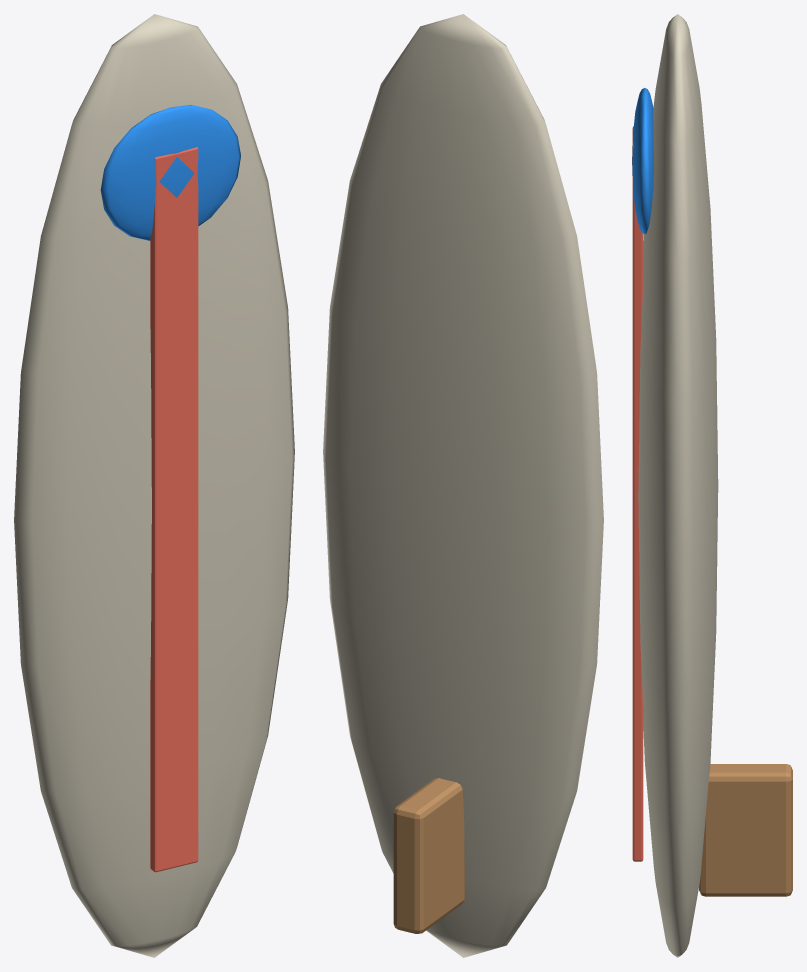
The model's file is surfboard.glb.
The picture shows the model from 3 angles, left to right: view 1: azimuth 30°, elevation 25°; view 2: azimuth 150°, elevation 25°; view 3: azimuth 270°, elevation 25°; orthographic projection.
Visible parts, largest first — view 1: Surfboard.001; view 2: Surfboard.001; view 3: Surfboard.001.
Part boxes in pixels (left/top/right/bottom): Surfboard.001: left=14, top=14, right=294, bottom=957; Surfboard.001: left=323, top=14, right=603, bottom=957; Surfboard.001: left=632, top=14, right=792, bottom=957.
Size of the model in its own units: 0.76 by 2.44 by 0.377.
